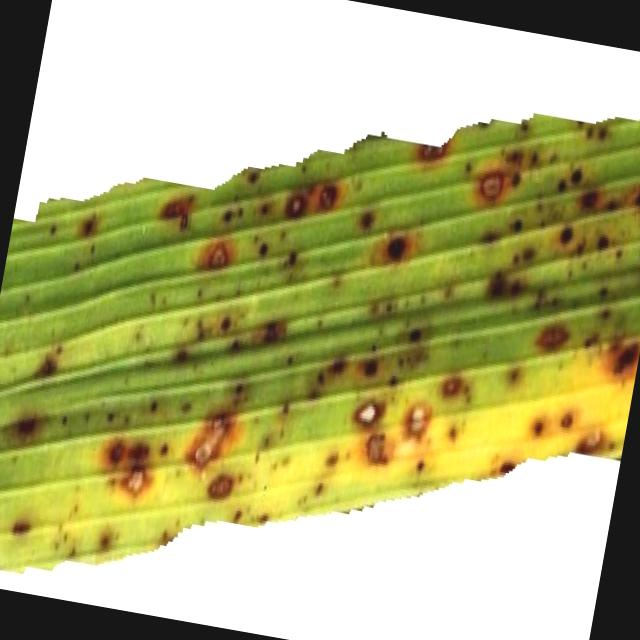leaf_spot: (0, 113, 640, 573)
